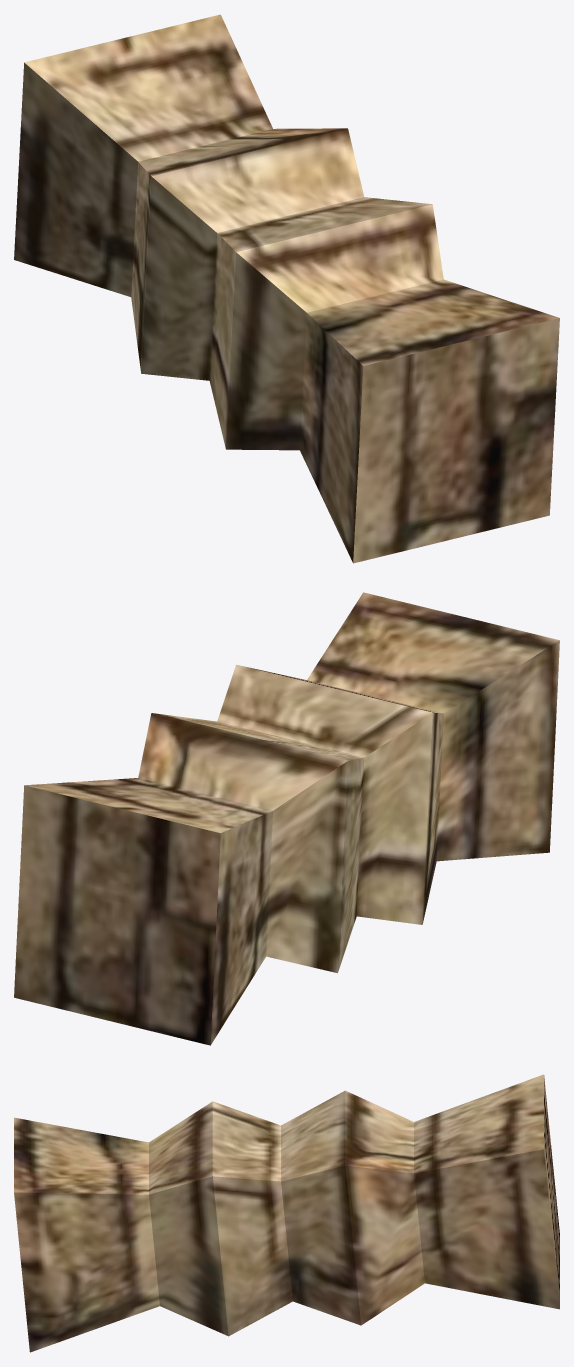
File: fallen-pillar.fbx
The picture shows the model from 3 angles, top to bottom: view 1: azimuth 30°, elevation 25°; view 2: azimuth 150°, elevation 25°; view 3: azimuth 270°, elevation 25°; orthographic projection. The views are drawn at different scales.
Visible parts, largest first — view 1: Cube; view 2: Cube; view 3: Cube.
Part boxes in pixels (x1,y1,x2,y2): Cube: [14, 14, 559, 563]; Cube: [14, 592, 559, 1045]; Cube: [14, 1074, 559, 1352].
Size of the model in its own units: 200 by 253 by 616.
